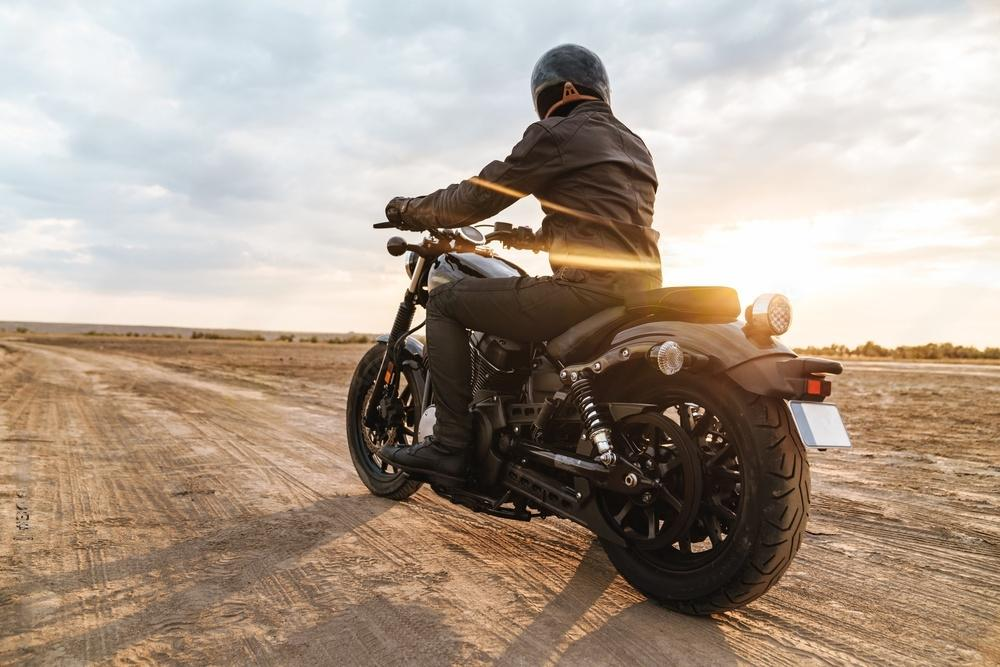helmet: (530, 43, 613, 122)
